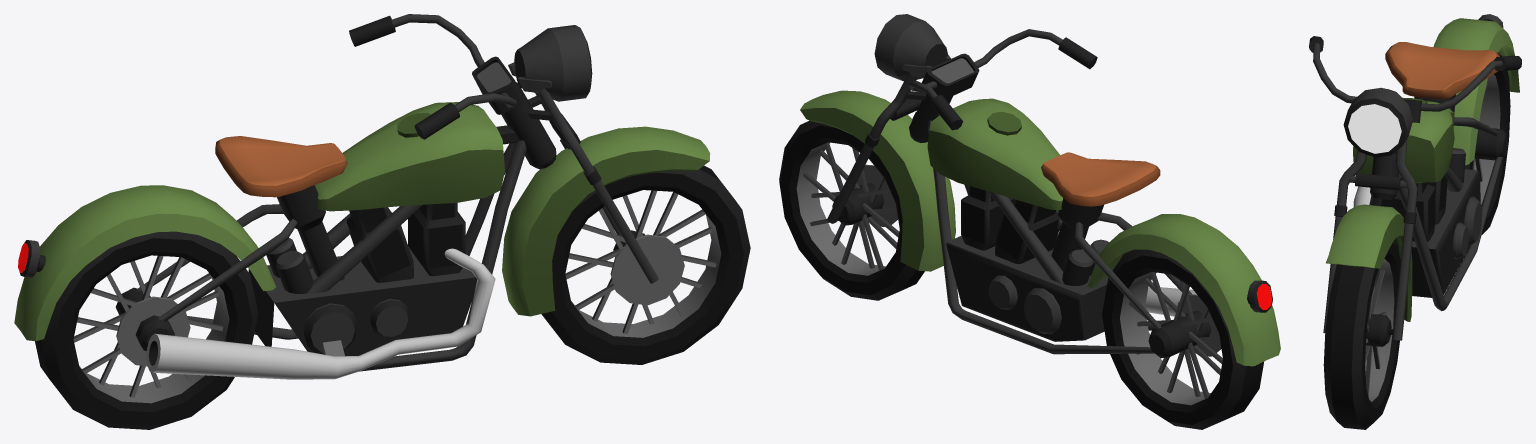
File: Bike_008.glb
3 renders of one model, left to right at view 1: azimuth 30°, elevation 25°; view 2: azimuth 150°, elevation 25°; view 3: azimuth 270°, elevation 25°, orthographic. The views are drawn at different scales.
Visible parts, largest first — view 1: Bike_008, wheel_0_Bike_008_Wheel_1R, wheel_1_Bike_008_Wheel_2L; view 2: Bike_008, wheel_0_Bike_008_Wheel_1R, wheel_1_Bike_008_Wheel_2L; view 3: Bike_008, wheel_0_Bike_008_Wheel_1R, wheel_1_Bike_008_Wheel_2L.
Boxes of the visible parts, left/top/right/bottom form: Bike_008: left=14, top=14, right=658, bottom=379; wheel_0_Bike_008_Wheel_1R: left=502, top=126, right=750, bottom=364; wheel_1_Bike_008_Wheel_2L: left=35, top=204, right=297, bottom=429; Bike_008: left=827, top=14, right=1280, bottom=366; wheel_0_Bike_008_Wheel_1R: left=779, top=90, right=955, bottom=300; wheel_1_Bike_008_Wheel_2L: left=1074, top=212, right=1264, bottom=429; Bike_008: left=1309, top=14, right=1521, bottom=340; wheel_0_Bike_008_Wheel_1R: left=1323, top=204, right=1412, bottom=429; wheel_1_Bike_008_Wheel_2L: left=1453, top=52, right=1510, bottom=234.
Size of the model in its own units: 2.54 by 1.27 by 0.8191.
2 materials, 2 textured.
